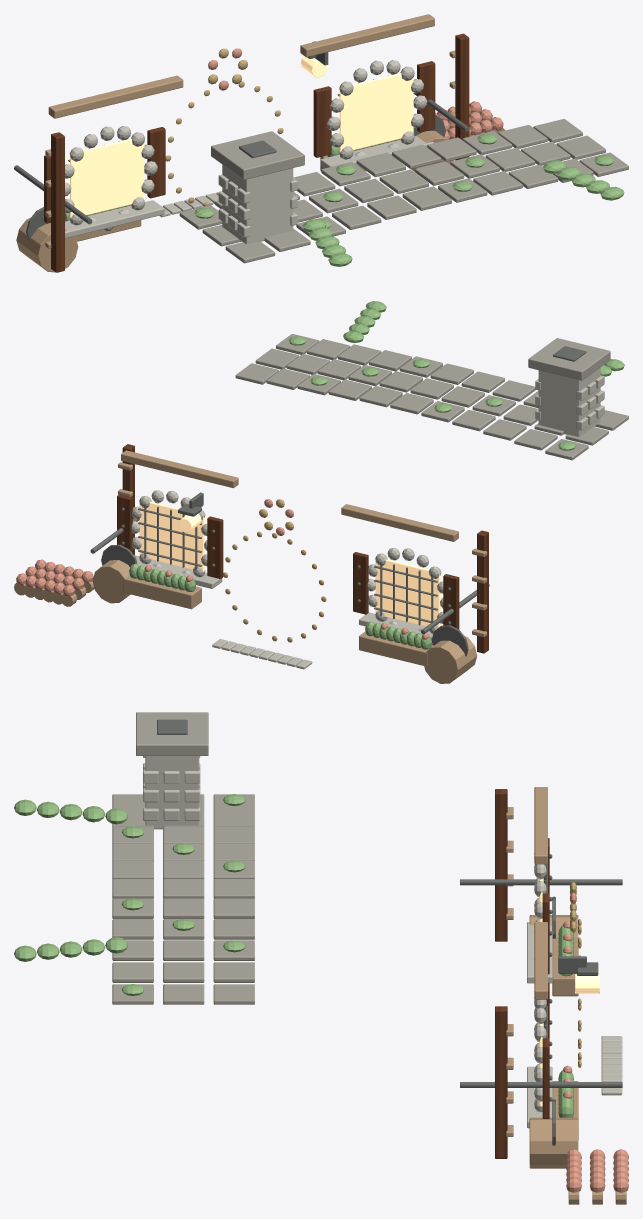
File: shire_east_orchard_cottage_craftwork.glb
3 renders of one model, top to bottom at view 1: azimuth 30°, elevation 25°; view 2: azimuth 150°, elevation 25°; view 3: azimuth 270°, elevation 25°, orthographic. The views are drawn at different scales.
Parts seen in each view (by area): view 1: Art_roof_slate, Art_rounded_fieldstone, Art_amber_glass, Art_oak_grain_original, Art_weathered_wood, Art_ivy_and_herbs, Art_forged_iron, Art_household_motif_color, Art_warm_brass; view 2: Art_roof_slate, Art_weathered_wood, Art_rounded_fieldstone, Art_amber_glass, Art_oak_grain_original, Art_forged_iron, Art_ivy_and_herbs, Art_household_motif_color, Art_warm_brass; view 3: Art_roof_slate, Art_rounded_fieldstone, Art_weathered_wood, Art_ivy_and_herbs, Art_oak_grain_original, Art_forged_iron, Art_household_motif_color.
Boxes of the visible parts, <box> form: Art_roof_slate: <box>179,119,628,263</box>; Art_rounded_fieldstone: <box>65,60,433,244</box>; Art_amber_glass: <box>70,56,413,217</box>; Art_oak_grain_original: <box>44,33,469,272</box>; Art_weathered_wood: <box>16,14,505,272</box>; Art_ivy_and_herbs: <box>66,133,624,266</box>; Art_forged_iron: <box>14,41,469,241</box>; Art_household_motif_color: <box>208,48,503,139</box>; Art_warm_brass: <box>165,48,283,206</box>; Art_roof_slate: <box>235,334,628,460</box>; Art_weathered_wood: <box>14,450,487,683</box>; Art_rounded_fieldstone: <box>131,367,604,669</box>; Art_amber_glass: <box>139,502,440,627</box>; Art_oak_grain_original: <box>117,444,488,653</box>; Art_forged_iron: <box>90,346,586,656</box>; Art_ivy_and_herbs: <box>129,301,624,649</box>; Art_household_motif_color: <box>16,499,429,639</box>; Art_warm_brass: <box>223,499,326,642</box>; Art_roof_slate: <box>112,712,254,1004</box>; Art_rounded_fieldstone: <box>143,756,622,1128</box>; Art_weathered_wood: <box>506,787,626,1204</box>; Art_ivy_and_herbs: <box>14,794,573,1117</box>; Art_oak_grain_original: <box>495,789,549,1158</box>; Art_forged_iron: <box>157,719,622,1145</box>; Art_household_motif_color: <box>563,890,628,1192</box>.
Bounding box in the file's own units: 8.66 × 4.02 × 8.62.
Materials: 9 (1 with a texture image).
